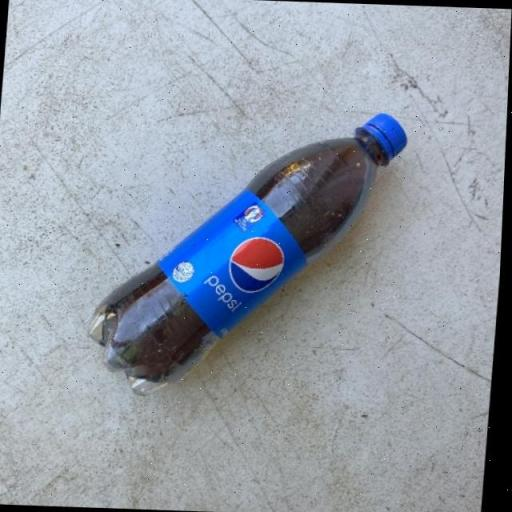plastic: (91, 114, 408, 394)
